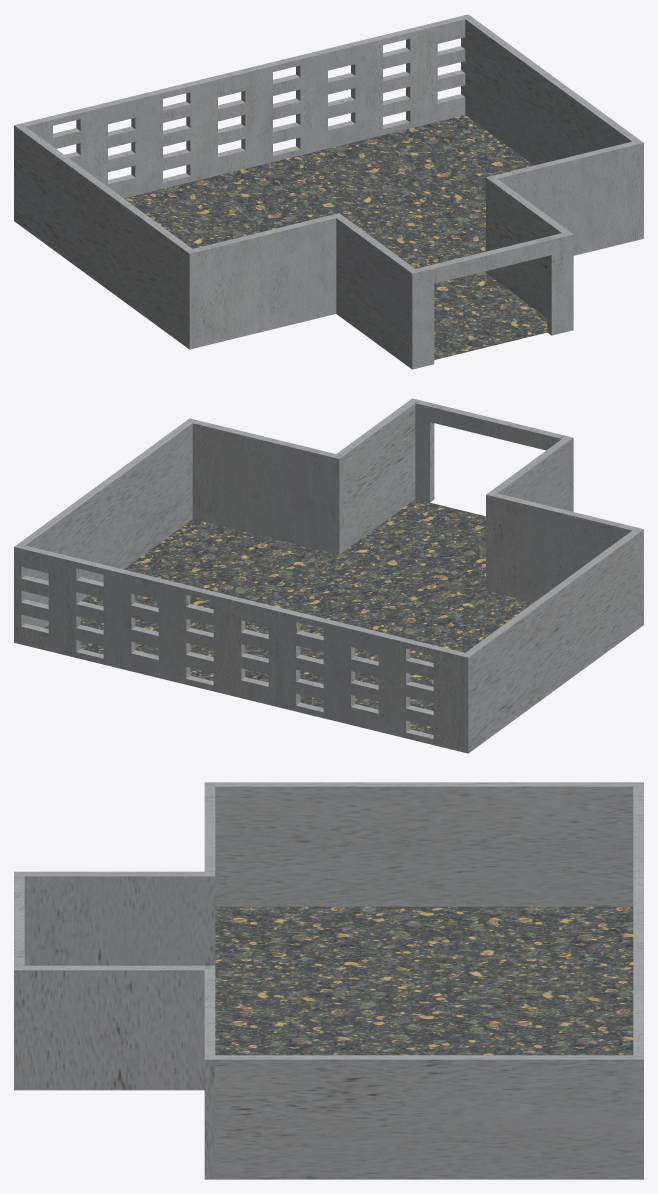
Rendered from finalmuseum.gltf.
The picture shows the model from 3 angles, top to bottom: view 1: azimuth 30°, elevation 25°; view 2: azimuth 150°, elevation 25°; view 3: azimuth 270°, elevation 25°; orthographic projection. The views are drawn at different scales.
Parts seen in each view (by area): view 1: Cube.005, Plane.001; view 2: Cube.005, Plane.001; view 3: Cube.005, Plane.001.
Part boxes in pixels (x1,y1,x2,y2): Cube.005: (14, 14, 643, 369); Plane.001: (124, 115, 547, 359); Cube.005: (14, 398, 643, 753); Plane.001: (44, 499, 533, 734); Cube.005: (14, 782, 643, 1179); Plane.001: (215, 906, 633, 1055).
Size of the model in its own units: 12.4 by 2.5 by 11.9.
